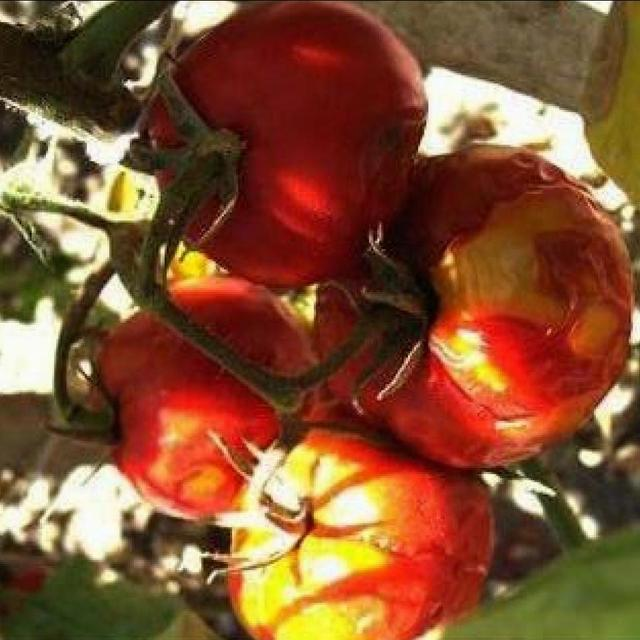Sunscald Fruit: (150, 97, 346, 378)
